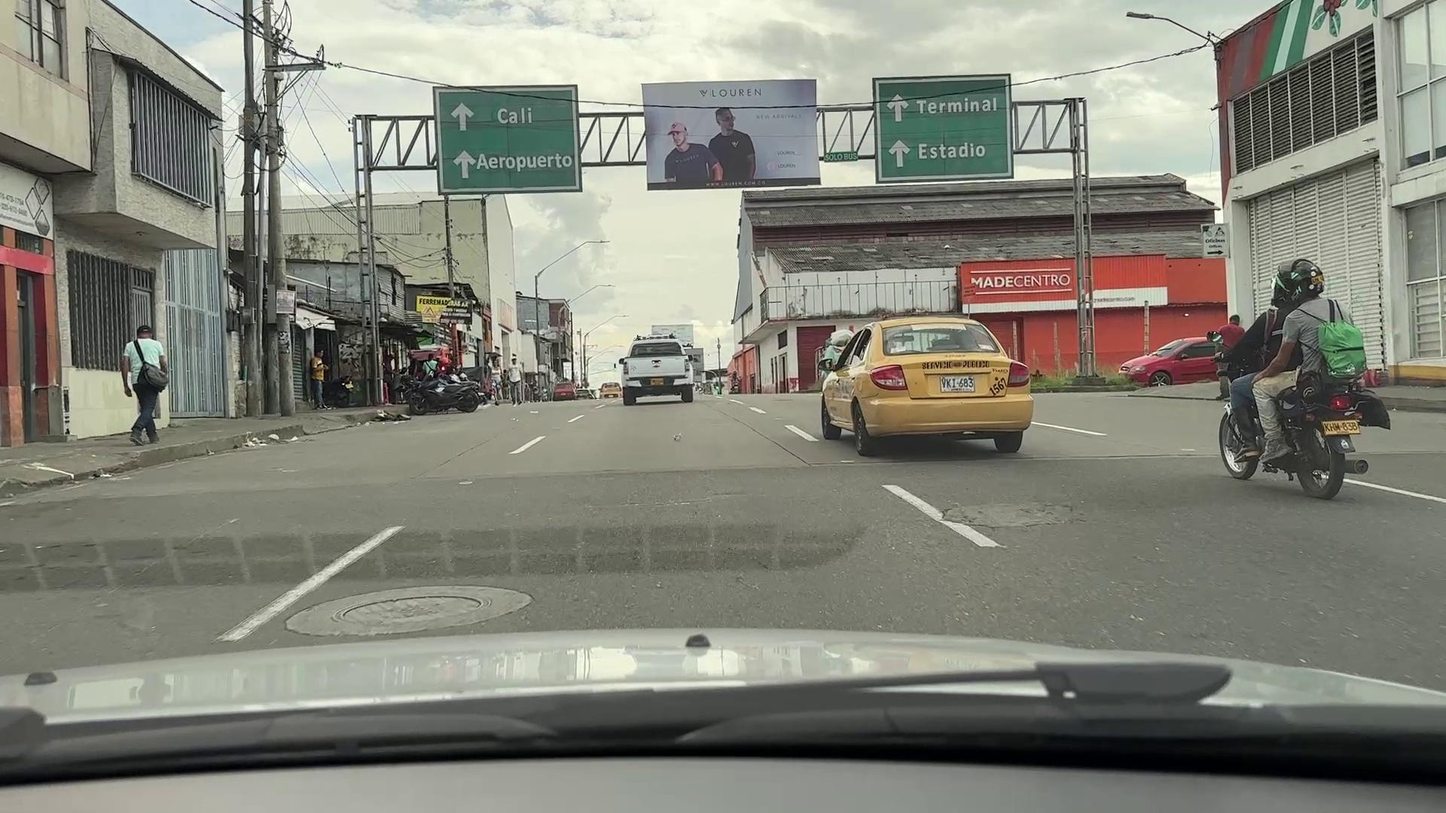bache: (944, 502, 1073, 528)
registro: (343, 596, 480, 624)
